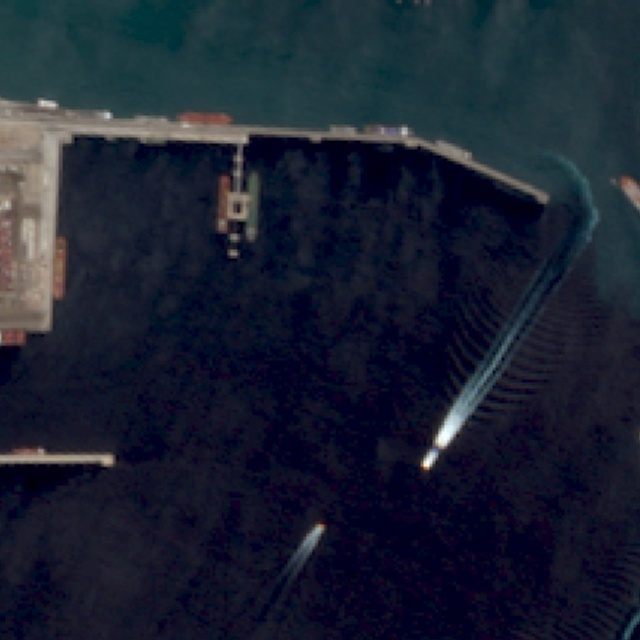wake: (375, 261, 586, 501)
